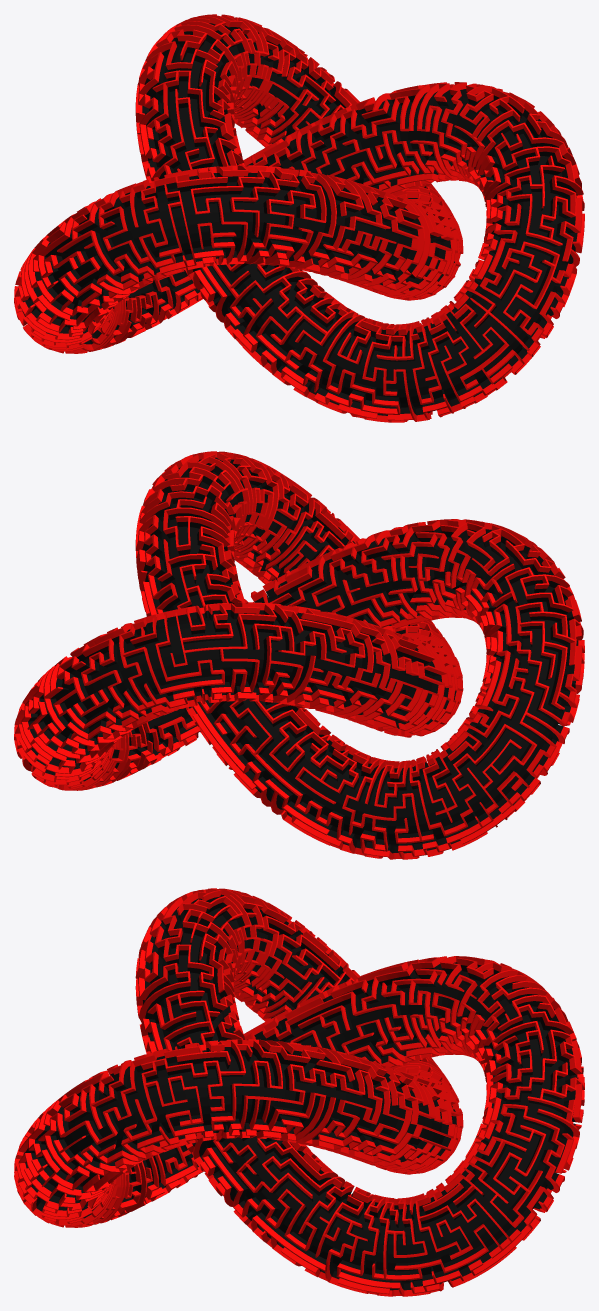
The model's file is maze00.glb.
The picture shows the model from 3 angles, top to bottom: view 1: azimuth 30°, elevation 25°; view 2: azimuth 150°, elevation 25°; view 3: azimuth 270°, elevation 25°; orthographic projection.
Visible parts, largest first — view 1: TorusKnot; view 2: TorusKnot; view 3: TorusKnot.
Part boxes in pixels (x1=…): TorusKnot: x1=14, y1=14, x2=584, y2=422; TorusKnot: x1=14, y1=451, x2=584, y2=859; TorusKnot: x1=14, y1=888, x2=584, y2=1296.
Size of the model in its own units: 6.21 by 3.14 by 6.61.
